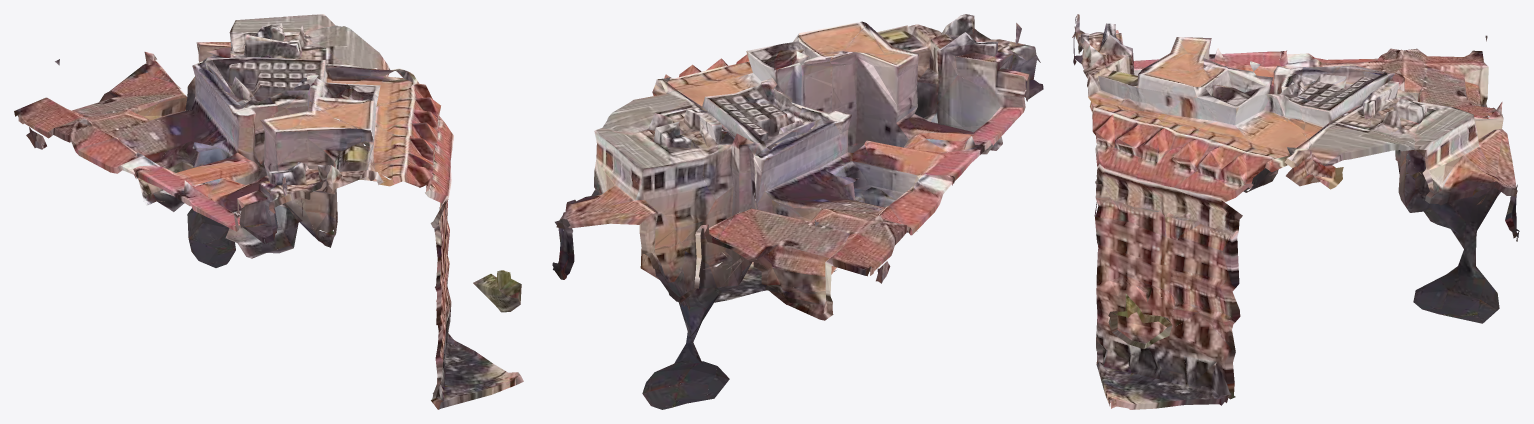
3 renders of one model, left to right at view 1: azimuth 30°, elevation 25°; view 2: azimuth 150°, elevation 25°; view 3: azimuth 270°, elevation 25°, orthographic. The views are drawn at different scales.
Parts seen in each view (by area): view 1: Mesh_0; view 2: Mesh_0; view 3: Mesh_0.
Part boxes in pixels (x1=…): Mesh_0: x1=14, y1=14, x2=523, y2=409; Mesh_0: x1=552, y1=14, x2=1043, y2=409; Mesh_0: x1=1072, y1=14, x2=1519, y2=409.
Size of the model in its own units: 33.46 by 29.06 by 41.54.
Materials: 2 (2 with a texture image).
